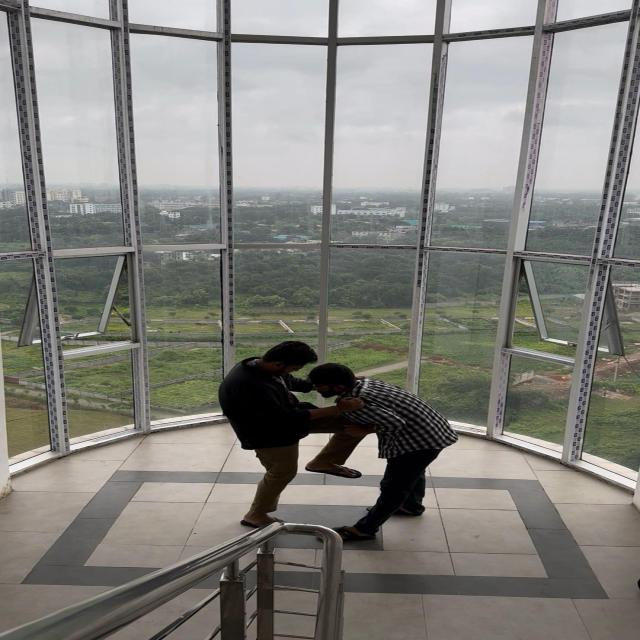fight: (187, 303, 470, 558)
